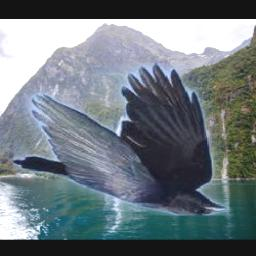Crow: (12, 64, 228, 216)
